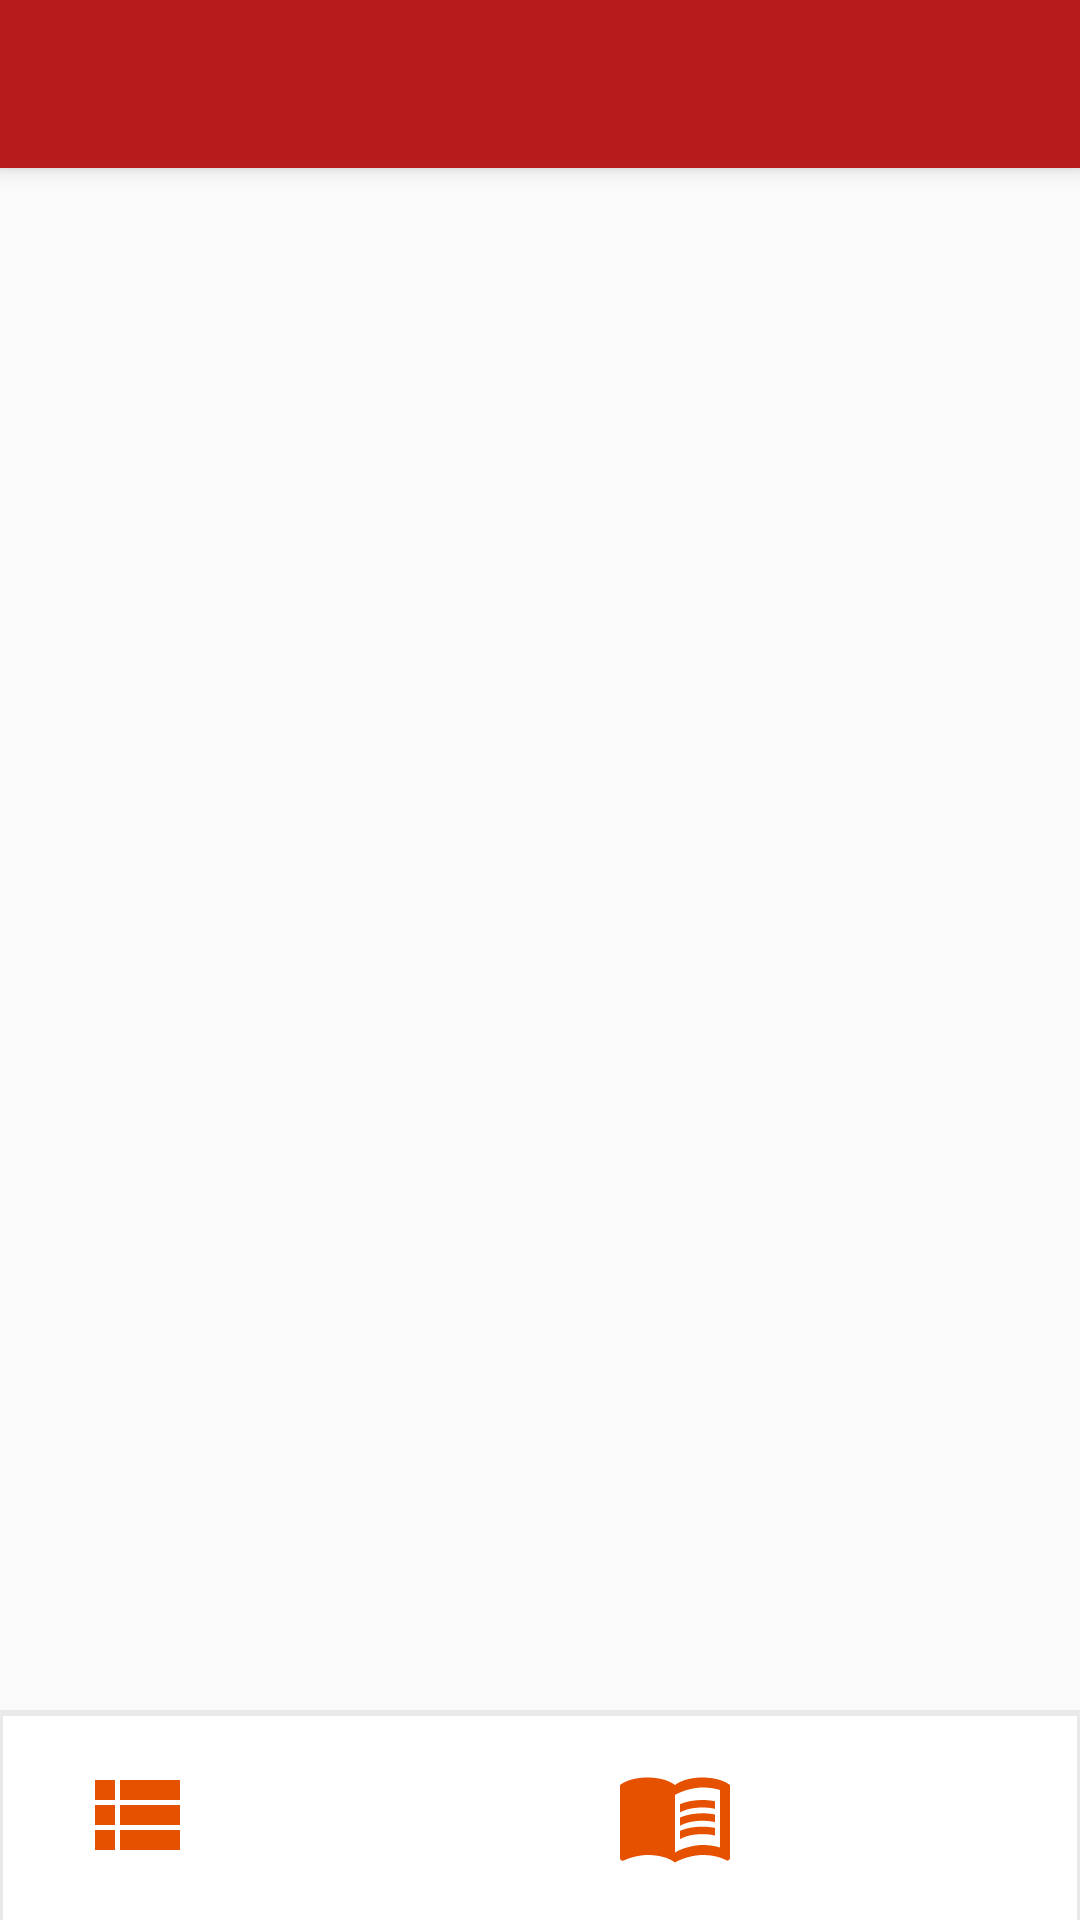

Where to tap for icons on this 1080x1920 app screen, as (x=x, y=y):
book: (x=675, y=1820)
view list: (x=137, y=1815)
